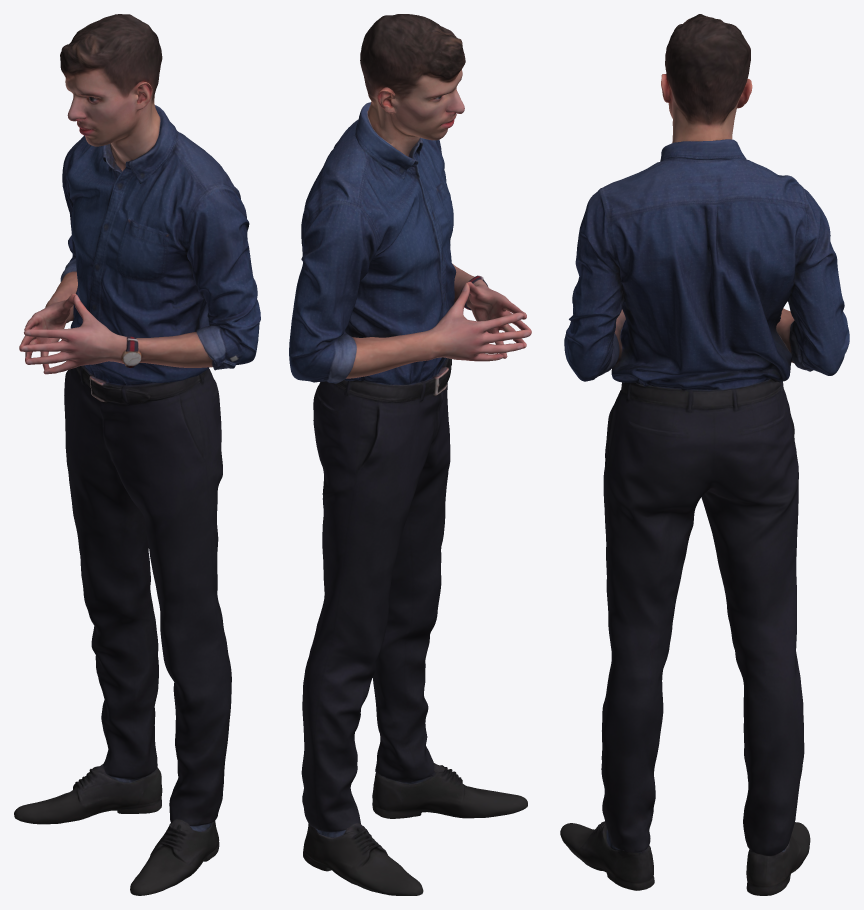
The model's file is sebastian.glb.
3 views of the same model, side by side, from view 1: azimuth 30°, elevation 25°; view 2: azimuth 150°, elevation 25°; view 3: azimuth 270°, elevation 25° (orthographic). The views are drawn at different scales.
Parts seen in each view (by area): view 1: Object_2; view 2: Object_2; view 3: Object_2.
Boxes of the visible parts, x1=… form: Object_2: x1=14, y1=14, x2=260, y2=895; Object_2: x1=289, y1=14, x2=531, y2=895; Object_2: x1=560, y1=14, x2=849, y2=895.
Bounding box in the file's own units: 0.6437 × 2.5 × 0.7806.
Materials: 1 (1 with a texture image).
